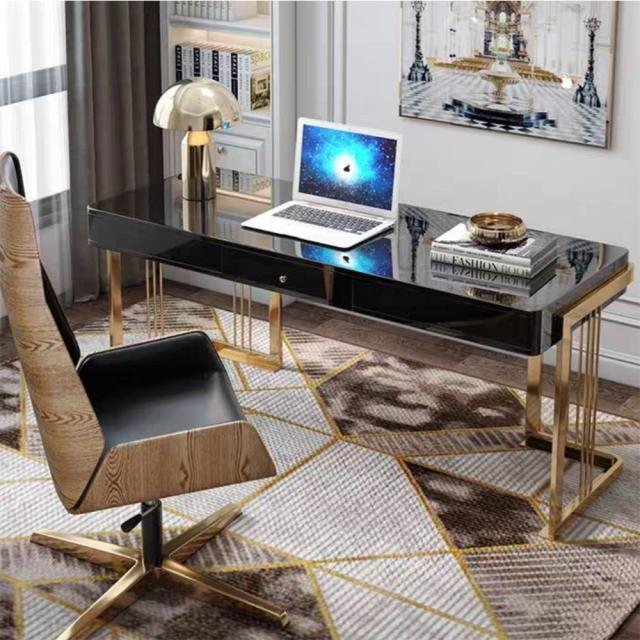table: (79, 138, 636, 353)
